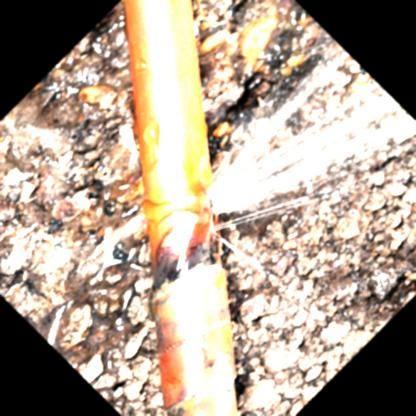burst: (178, 158, 258, 266)
